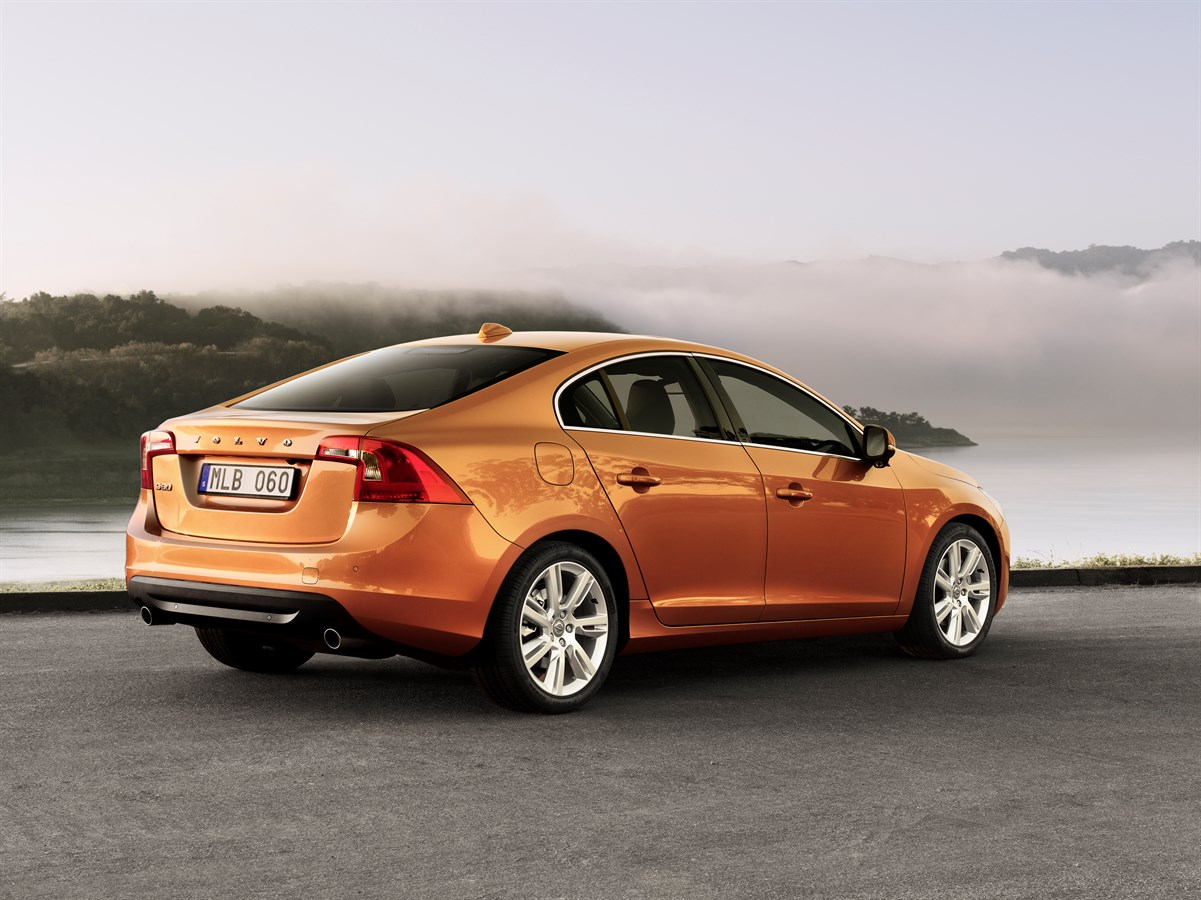other: (116, 330, 1012, 670)
